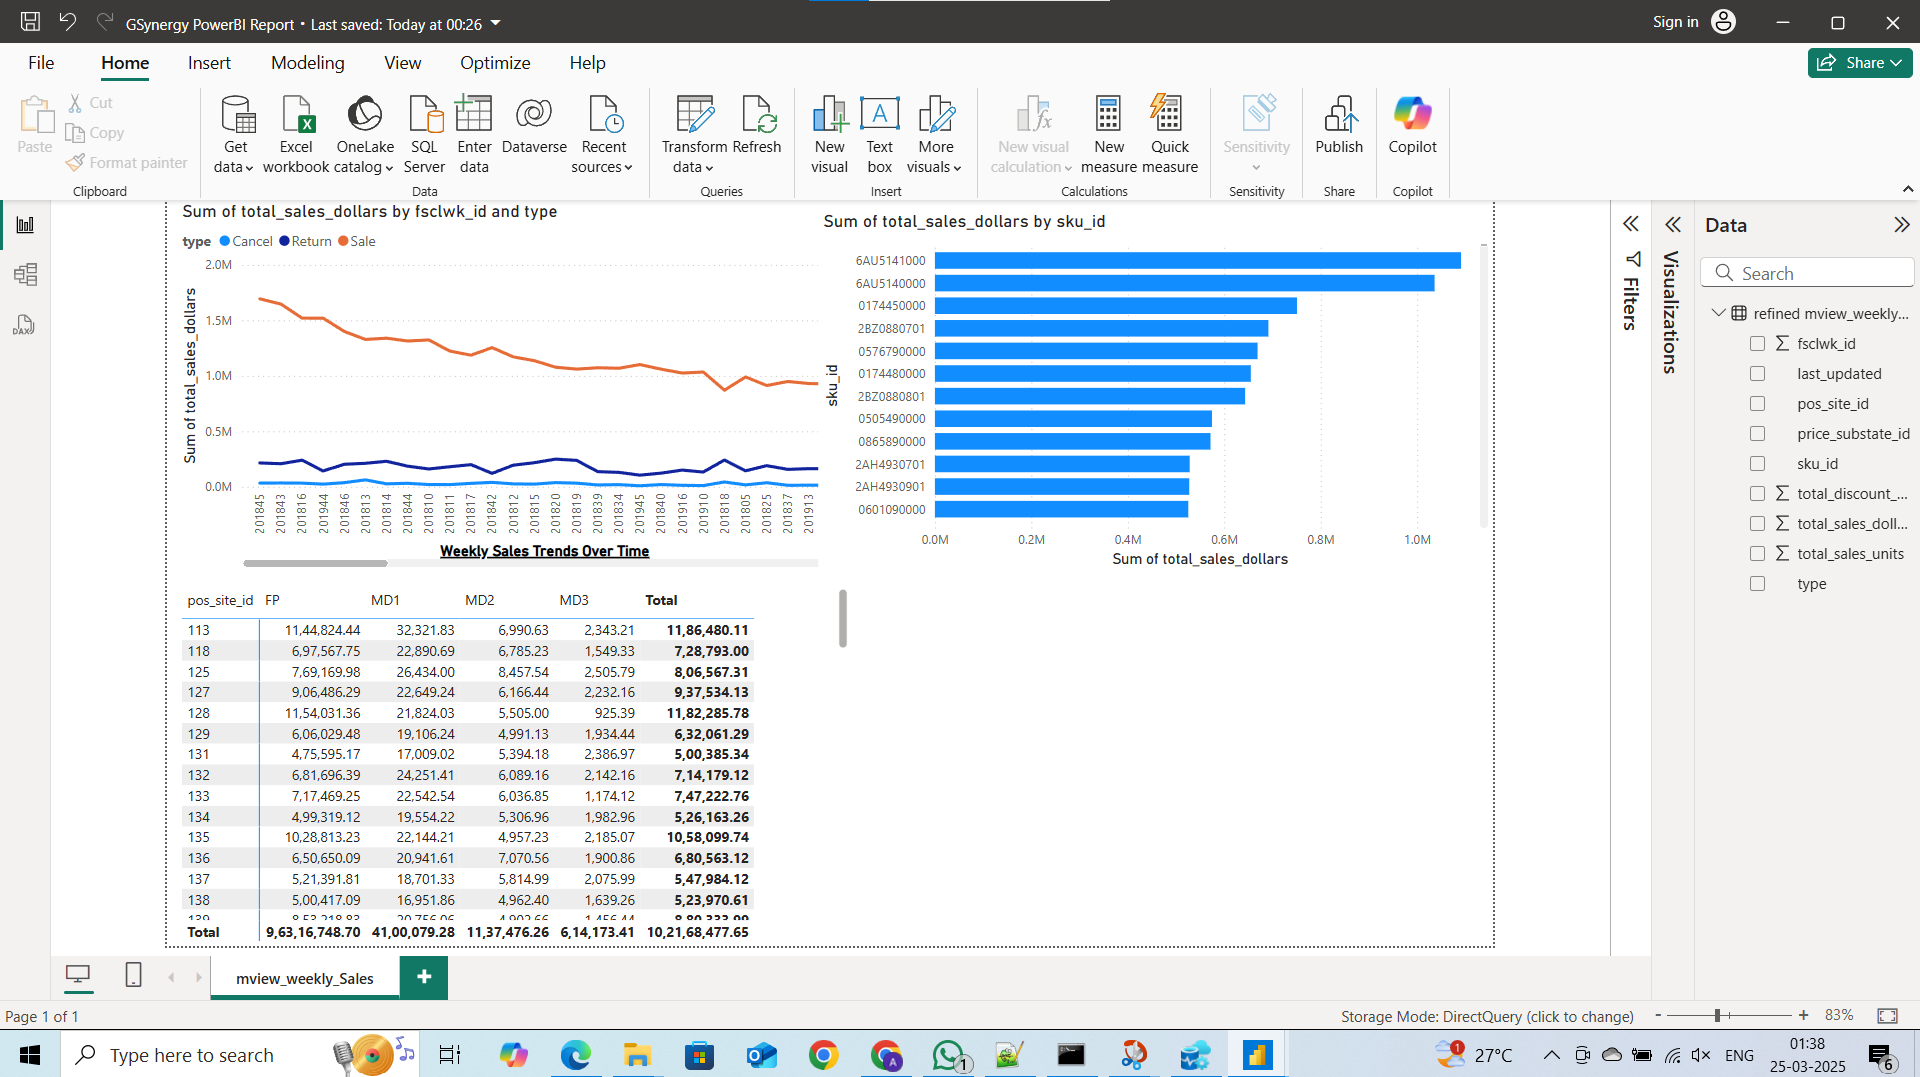

What the dashboard file says about the page in this screenshot:
{"tool":"powerbi","page":{"name":"Page 1","canvas":[1280,720],"ordinal":0},"visuals":[{"type":"lineChart","fields":{"Category":["refined mview_weekly_sales.fsclwk_id"],"Y":["Sum(refined mview_weekly_sales.total_sales_dollars)"],"Series":["refined mview_weekly_sales.type"]},"box":[9.6,0,651.8,359.5],"z":0},{"type":"barChart","fields":{"Category":["refined mview_weekly_sales.sku_id"],"Y":["Sum(refined mview_weekly_sales.total_sales_dollars)"]},"box":[628.5,9.6,651.8,349.9],"z":1000},{"type":"pivotTable","fields":{"Rows":["refined mview_weekly_sales.pos_site_id"],"Columns":["refined mview_weekly_sales.price_substate_id"],"Values":["Sum(refined mview_weekly_sales.total_sales_dollars)"]},"box":[10,370,652,350],"z":1001}]}

Visuals, with their boxes on the page's 1280x720 design canvas (x1, y1, x2, y2). These are canvas units, not pixel positions in the 1920x1077 screenshot, which may show the page scaled, cropped or inside an application window:
lineChart - refined mview_weekly_sales.fsclwk_id x Sum(refined mview_weekly_sales.total_sales_dollars): <region>10, 0, 661, 360</region>
barChart - refined mview_weekly_sales.sku_id x Sum(refined mview_weekly_sales.total_sales_dollars): <region>628, 10, 1280, 360</region>
pivotTable - refined mview_weekly_sales.pos_site_id x refined mview_weekly_sales.price_substate_id: <region>10, 370, 662, 720</region>
